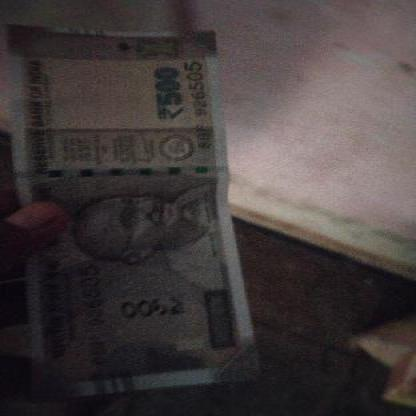New500Front: (3, 23, 249, 389)
